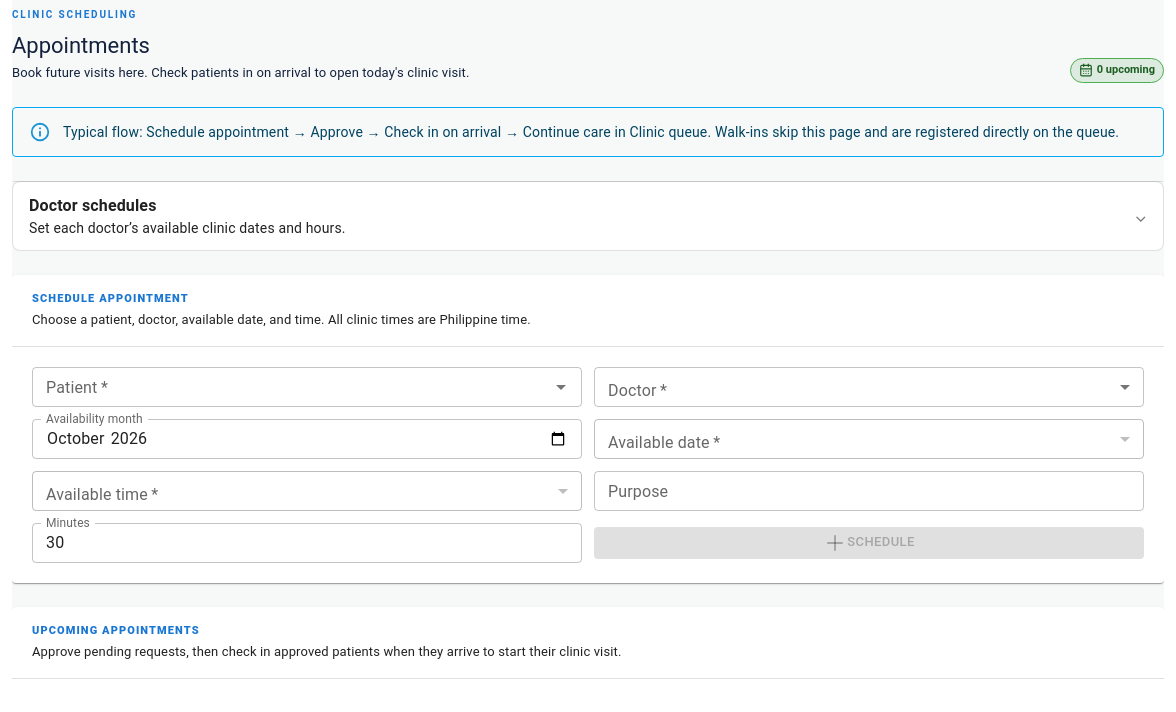
Test case: does not reuse another doctor’s time and explains when no dates are available
Step 1. Click the 1st dropdown named "Doctor" → (869, 387), box [594,367,1144,407]
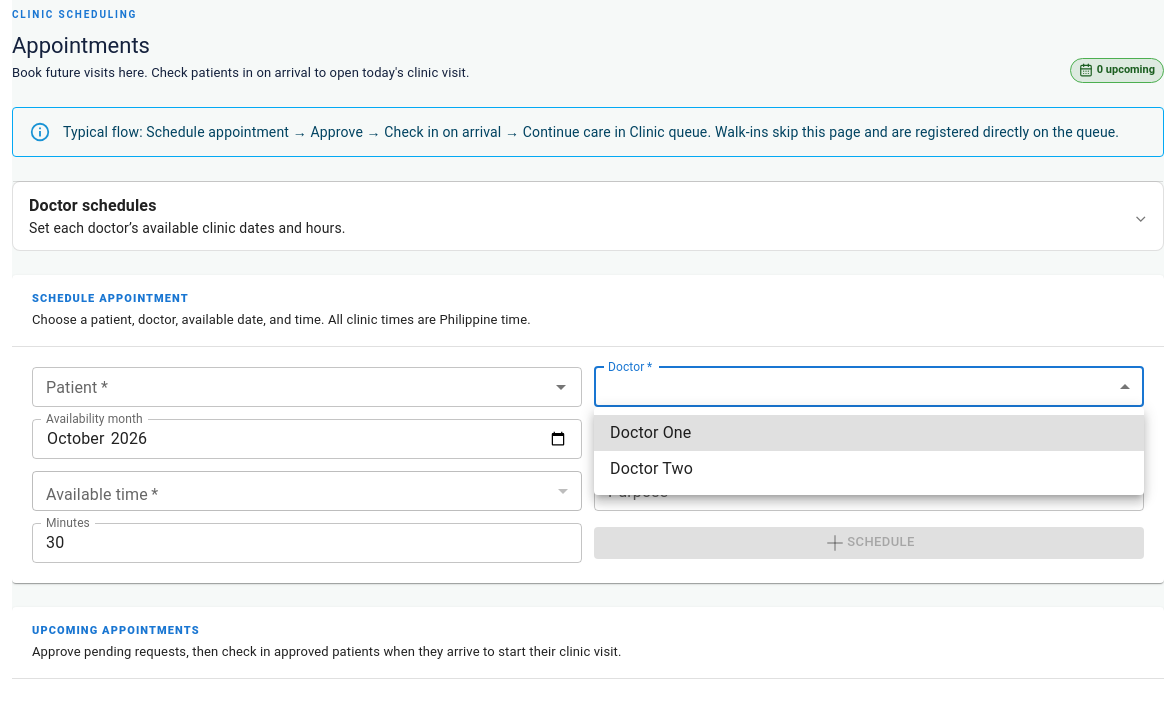
Step 2. Click the option "Doctor One" → (651, 432), box [594,415,1144,451]
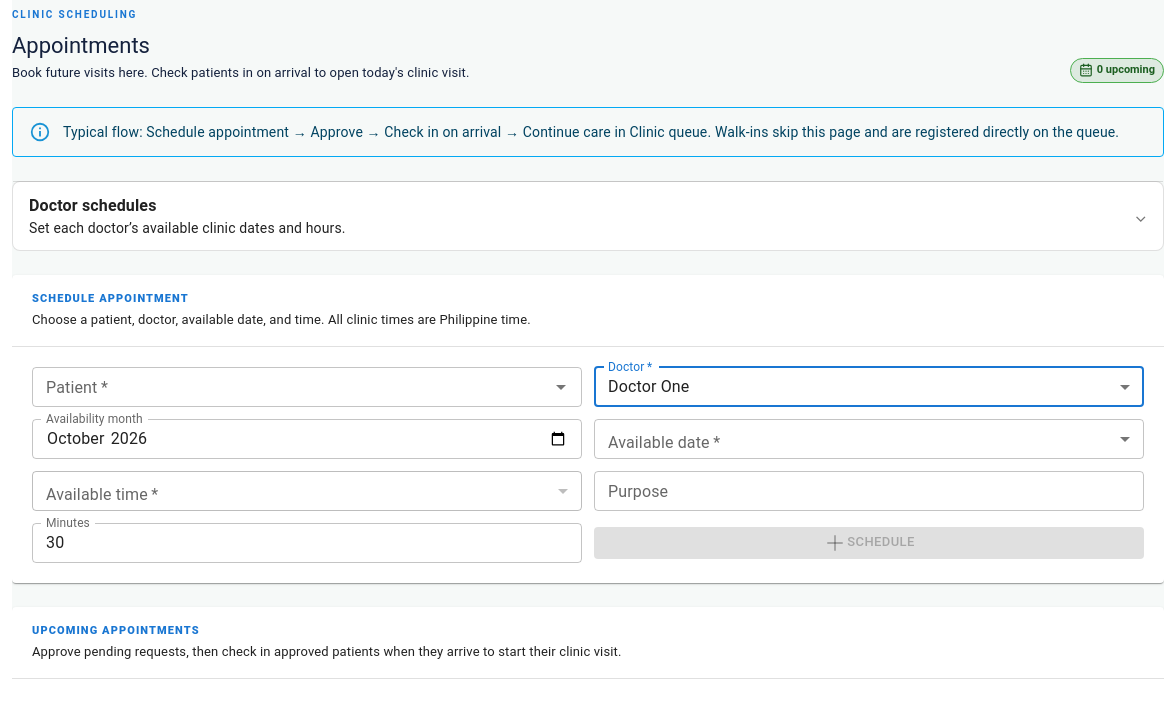
Step 3. Click the dropdown named "Doctor *" → (649, 387), box [608,377,689,396]
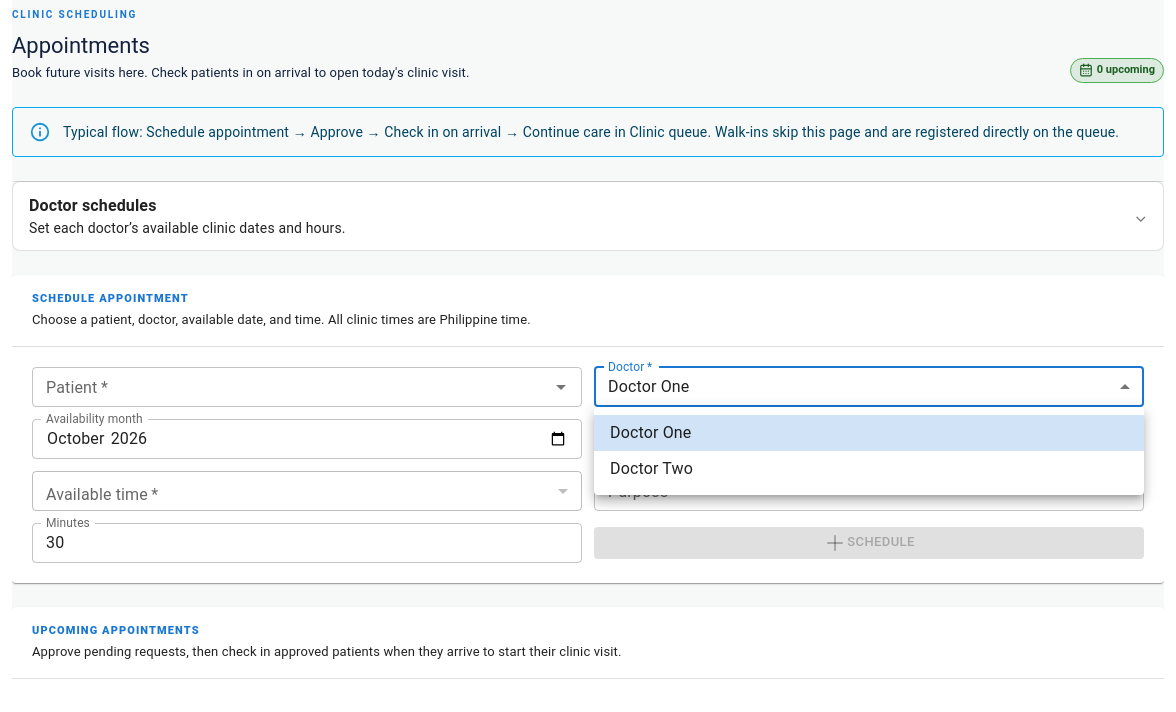
Step 4. Click the option "Doctor Two" → (652, 468), box [610,459,693,478]
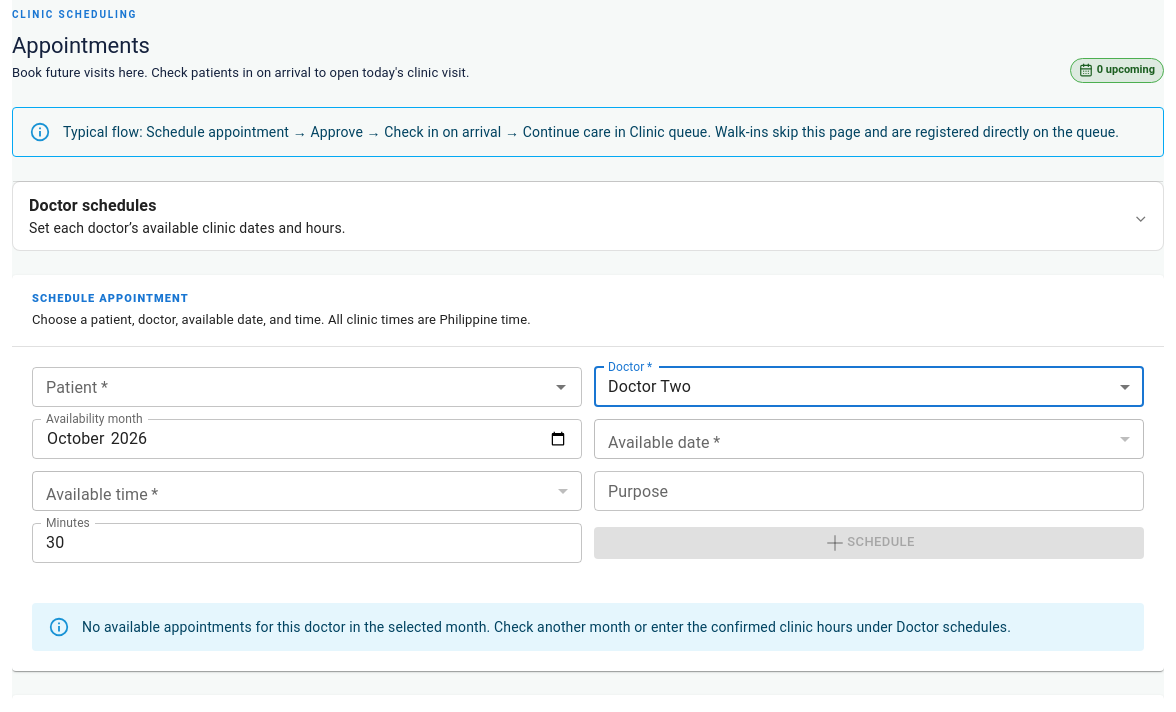
Expected: the button "Schedule" is disabled, [594,527,1144,559]
Expected: the text "No available appointments for this doctor" is shown, [82,619,1011,635]
